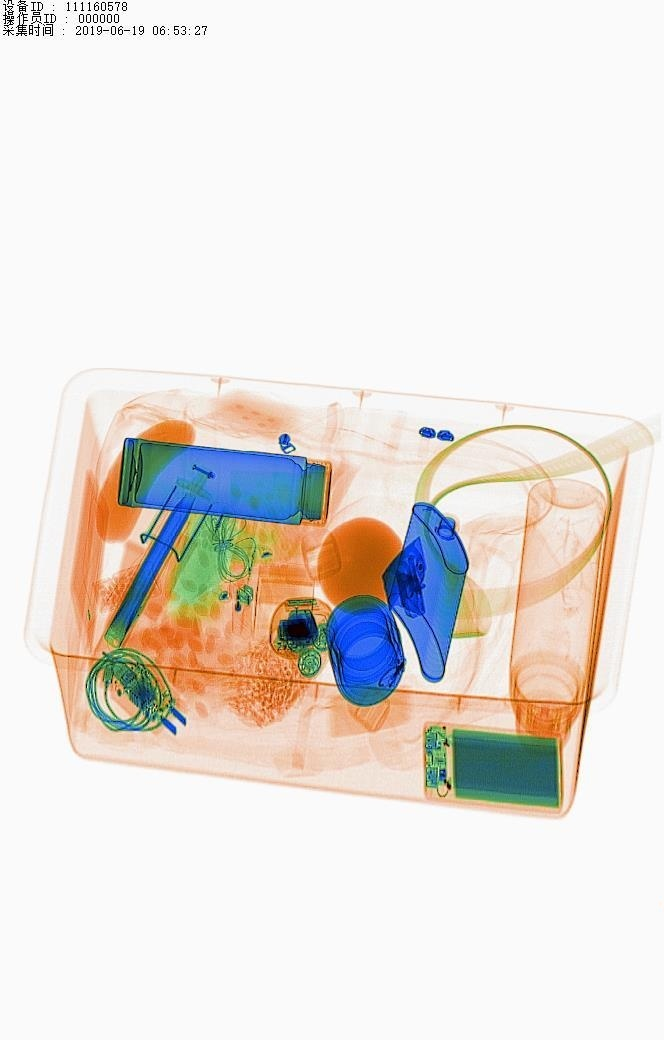NonmetallicFire: (218, 558, 277, 653)
